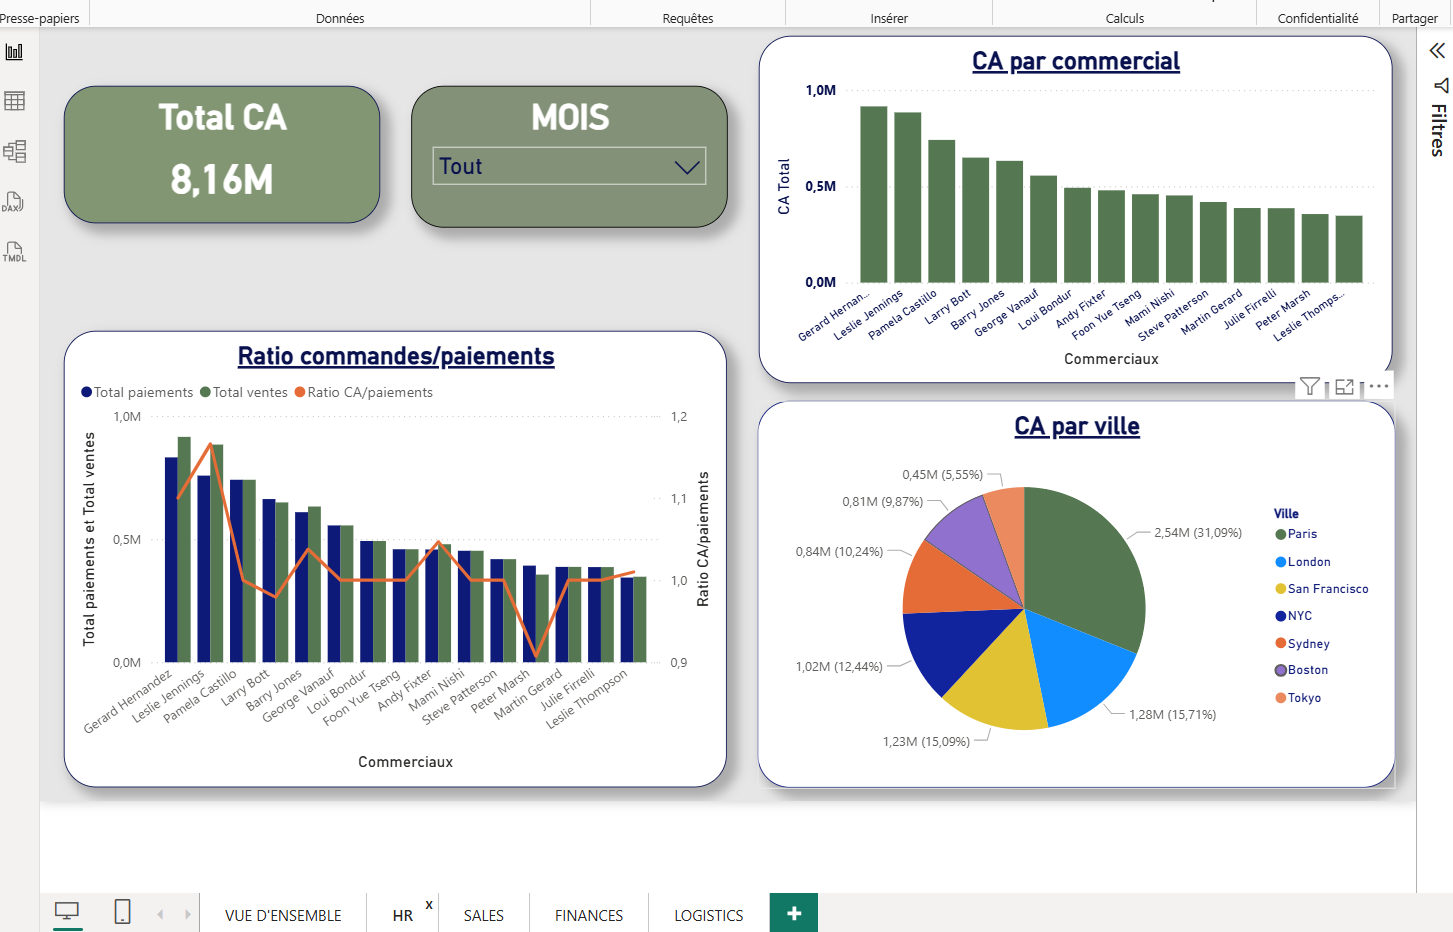

The page's visual inventory and layout, read from the dashboard file:
{"tool":"powerbi","page":{"name":"HR","canvas":[1280,720],"ordinal":1},"visuals":[{"type":"clusteredColumnChart","title":"CA par commercial","fields":{"Category":["toys_and_models dim_employees.employee_name"],"Y":["_MEASURES.CA Total","_MEASURES.CA Total"]},"box":[669.1,8.6,589.4,323.2],"z":0},{"type":"pieChart","title":"CA par ville","fields":{"Y":["Sum(toys_and_models fact_sales.total)"],"Category":["toys_and_models dim_offices.city"]},"box":[666.9,348,593.7,359.9],"z":1000},{"type":"lineClusteredColumnComboChart","title":"Ratio commandes/paiements ","fields":{"Y":["Sum(toys_and_models fact_payments.payment_amount)","Sum(toys_and_models fact_sales.total)"],"Category":["toys_and_models dim_employees.employee_name"],"Y2":["_MEASURES.Ratio CA/paiements"]},"box":[22.6,283,617,424.5],"z":2000},{"type":"slicer","title":"MOIS","fields":{"Values":["toys_and_models dim_dates.order_date.Variation.Hiérarchie de dates.Mois"]},"box":[345.3,54.7,294.3,132.1],"z":3000},{"type":"card","title":"Total CA","fields":{"Values":["Sum(toys_and_models fact_sales.total)"]},"box":[22.6,54.7,294.3,128.3],"z":4000}]}

Visuals, with their boxes on the page's 1280x720 design canvas (x1, y1, x2, y2). These are canvas units, not pixel positions in the 1453x932 screenshot, which may show the page scaled, cropped or inside an application window:
"CA par commercial" clusteredColumnChart: (669, 9, 1258, 332)
"CA par ville" pieChart: (667, 348, 1261, 708)
"Ratio commandes/paiements " lineClusteredColumnComboChart: (23, 283, 640, 708)
"MOIS" slicer: (345, 55, 640, 187)
"Total CA" card: (23, 55, 317, 183)
